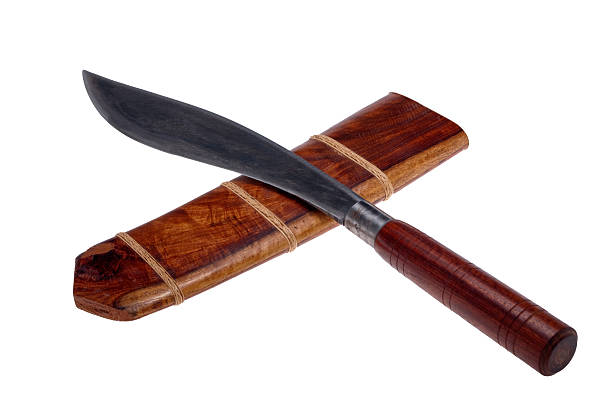knives: (72, 70, 602, 367)
